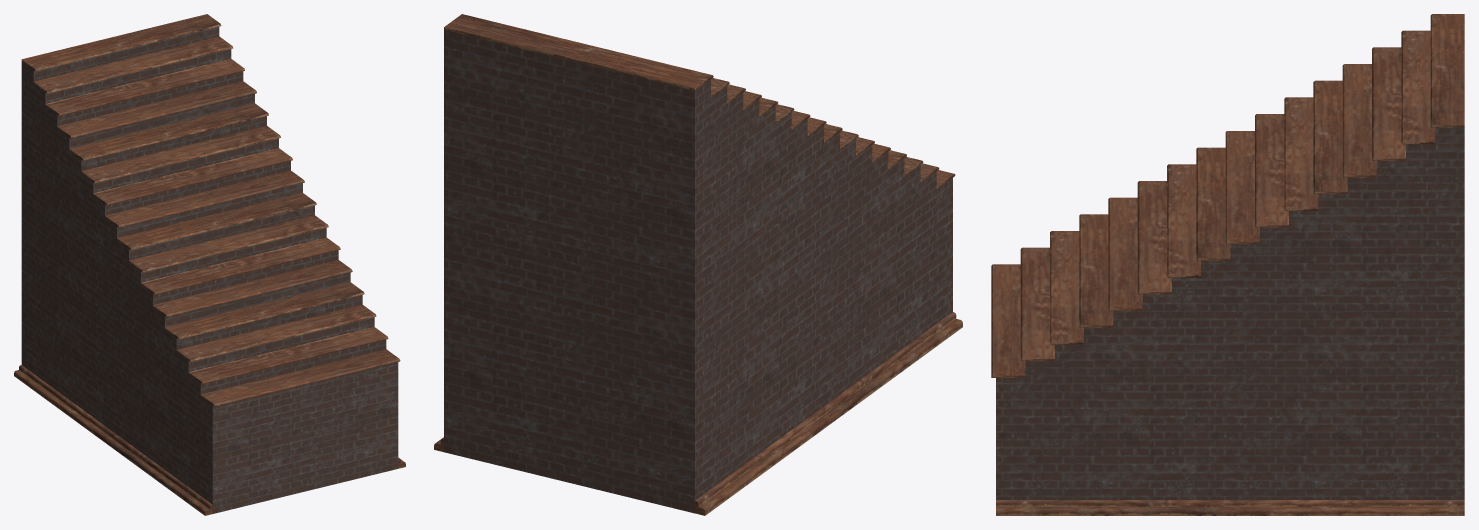
File: Kit_LadderSixteen.fbx
3 views of the same model, side by side, from view 1: azimuth 30°, elevation 25°; view 2: azimuth 150°, elevation 25°; view 3: azimuth 270°, elevation 25° (orthographic). The views are drawn at different scales.
Parts seen in each view (by area): view 1: Kit_LadderSixteen; view 2: Kit_LadderSixteen; view 3: Kit_LadderSixteen.
Part boxes in pixels (x1=…): Kit_LadderSixteen: x1=14, y1=14, x2=405, y2=515; Kit_LadderSixteen: x1=434, y1=14, x2=962, y2=515; Kit_LadderSixteen: x1=991, y1=14, x2=1464, y2=515.
Size of the model in its own units: 105 by 158 by 175.
